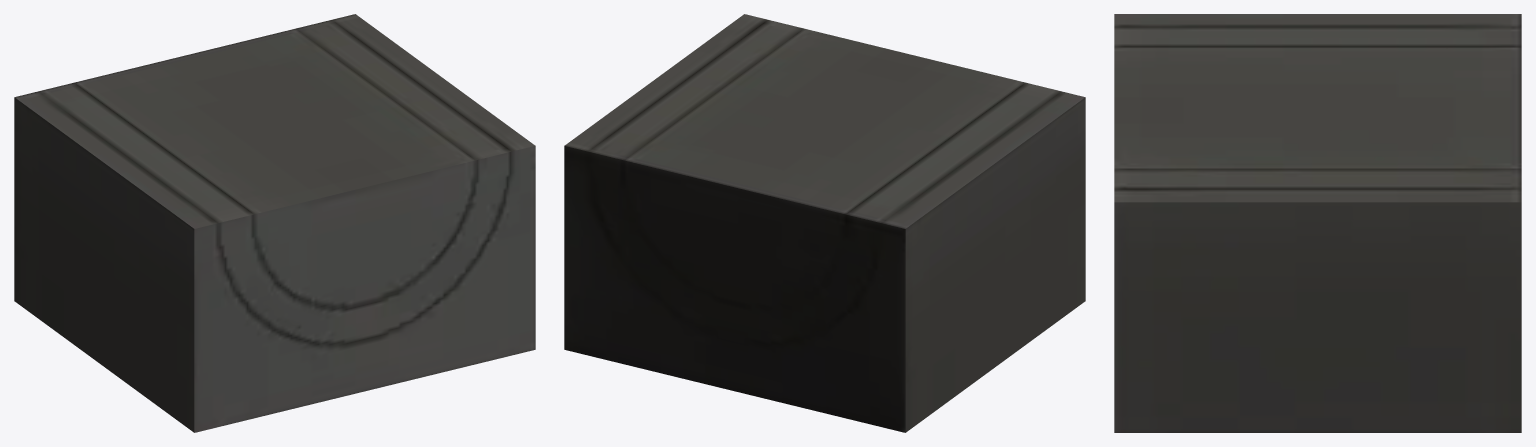
The model's file is frame__lower_brace.glb.
3 views of the same model, side by side, from view 1: azimuth 30°, elevation 25°; view 2: azimuth 150°, elevation 25°; view 3: azimuth 270°, elevation 25° (orthographic). The views are drawn at different scales.
Visible parts, largest first — view 1: geometry_0; view 2: geometry_0; view 3: geometry_0.
Boxes of the visible parts, x1,y1,x2,y2 form: geometry_0: (14,14,535,432); geometry_0: (564,14,1085,432); geometry_0: (1114,14,1521,432).
Bounding box in the file's own units: 0.07 × 0.04 × 0.064.
Materials: 1 (1 with a texture image).
